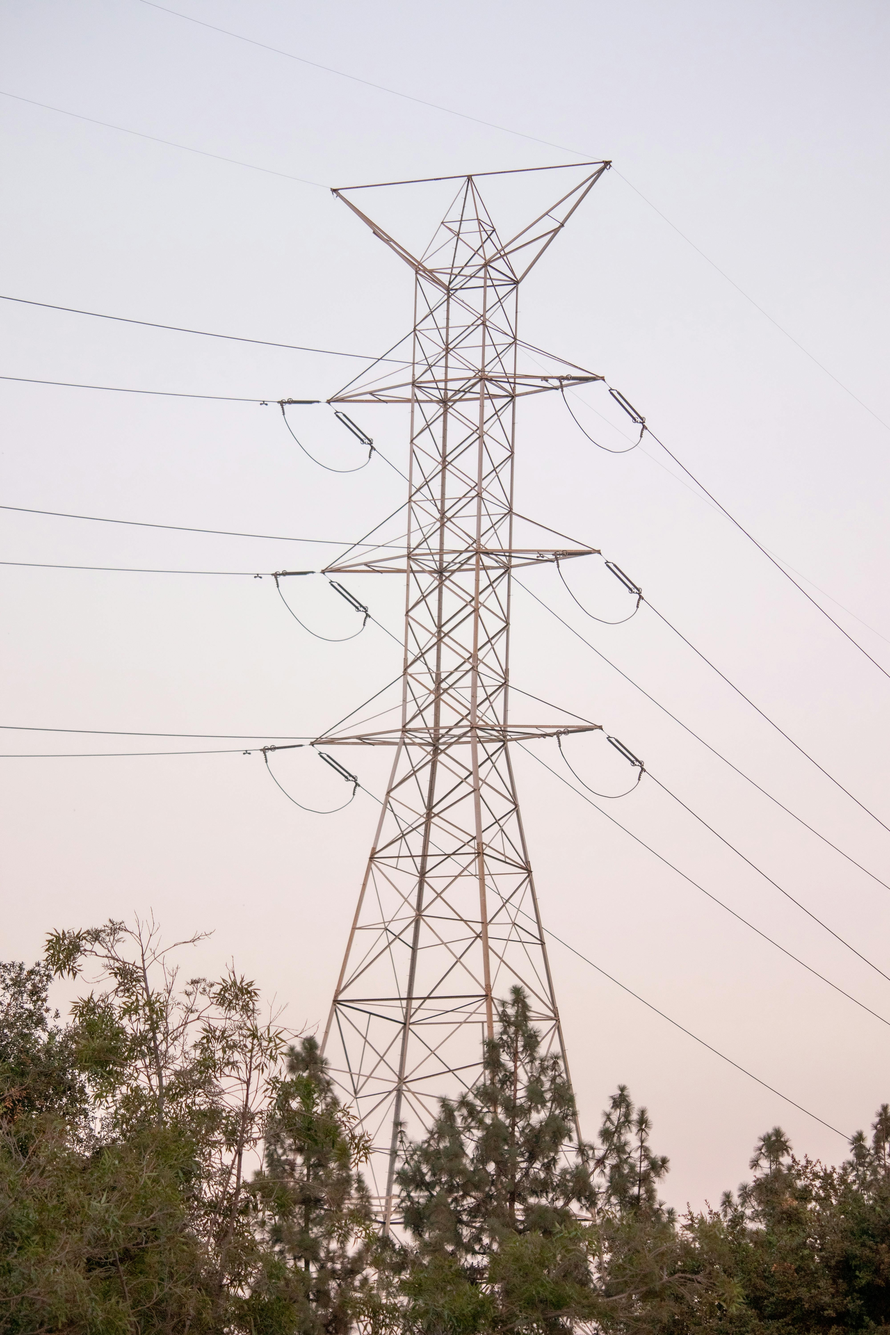insulator: (602, 378, 652, 432), (600, 551, 643, 604), (598, 729, 652, 771), (335, 407, 379, 453), (325, 577, 374, 615), (319, 749, 365, 787)
